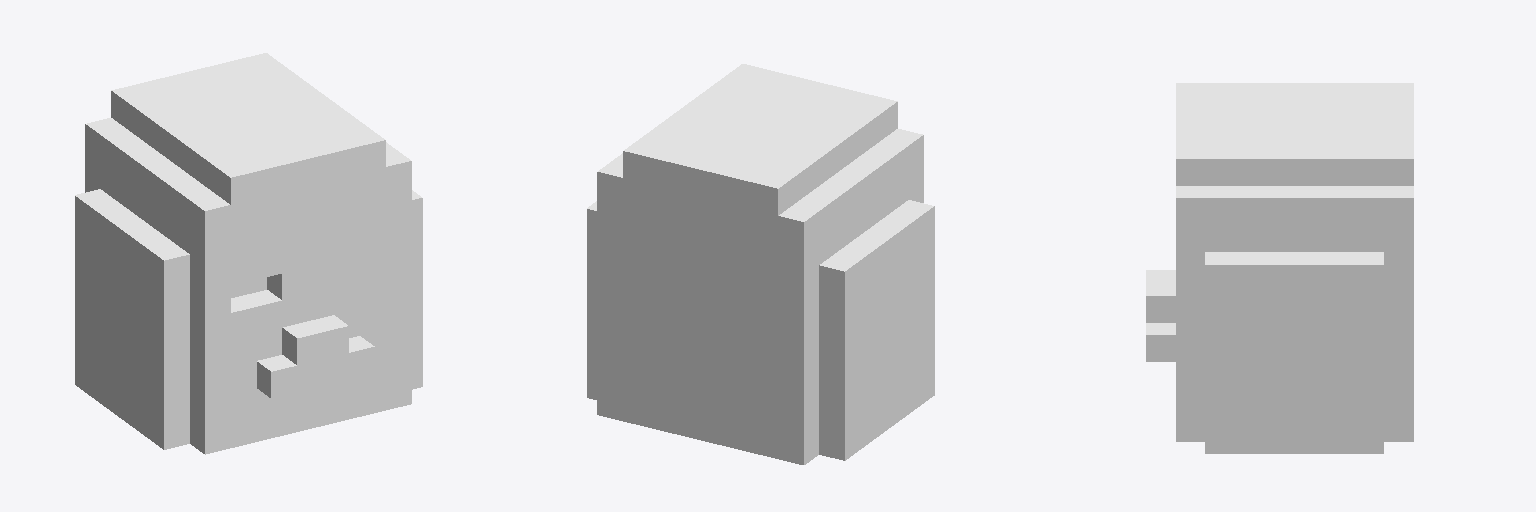
The model's file is Example2.obj.
The picture shows the model from 3 angles: view 1: azimuth 30°, elevation 25°; view 2: azimuth 150°, elevation 25°; view 3: azimuth 270°, elevation 25°; orthographic projection.
Visible parts, largest first — view 1: object 1; view 2: object 1; view 3: object 1.
Part boxes in pixels (x1,y1,x2,y2): object 1: (75,53,422,454); object 1: (587,64,934,464); object 1: (1146,83,1413,453).
Size of the model in its own units: 1 by 1 by 0.9.